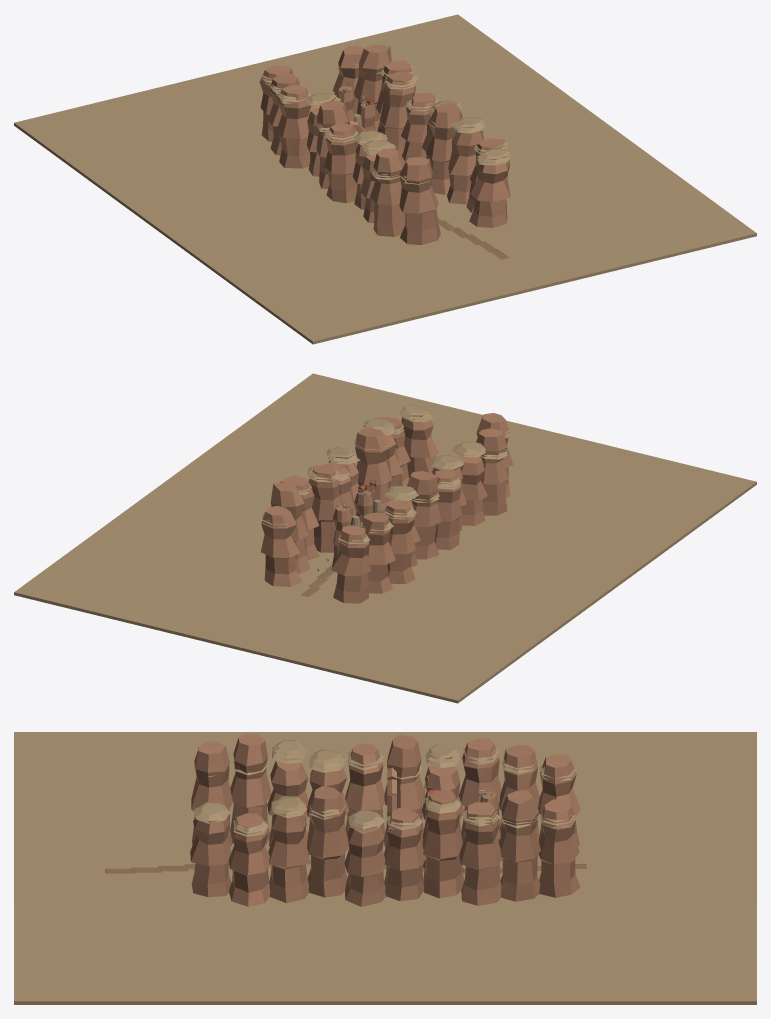
The model's file is canyon-ZS6-vPhB.glb.
3 views of the same model, one above another, from view 1: azimuth 30°, elevation 25°; view 2: azimuth 150°, elevation 25°; view 3: azimuth 270°, elevation 25° (orthographic). The views are drawn at different scales.
Visible parts, largest first — view 1: Rebuilt_canyon_Paint_sand.001, Rebuilt_canyon_Paint_rock.001, Rebuilt_canyon_Paint_wood.001; view 2: Rebuilt_canyon_Paint_sand.001, Rebuilt_canyon_Paint_rock.001; view 3: Rebuilt_canyon_Paint_sand.001, Rebuilt_canyon_Paint_rock.001, Rebuilt_canyon_Paint_wood.001.
Part boxes in pixels (x1,y1,x2,y2): Rebuilt_canyon_Paint_sand.001: (14,14,756,344); Rebuilt_canyon_Paint_rock.001: (259,44,510,244); Rebuilt_canyon_Paint_wood.001: (343,88,509,259); Rebuilt_canyon_Paint_sand.001: (14,373,756,703); Rebuilt_canyon_Paint_rock.001: (261,413,513,603); Rebuilt_canyon_Paint_sand.001: (14,732,756,1004); Rebuilt_canyon_Paint_rock.001: (190,733,580,906); Rebuilt_canyon_Paint_wood.001: (105,774,586,873).
Size of the model in its own units: 480 by 84.24 by 560.
